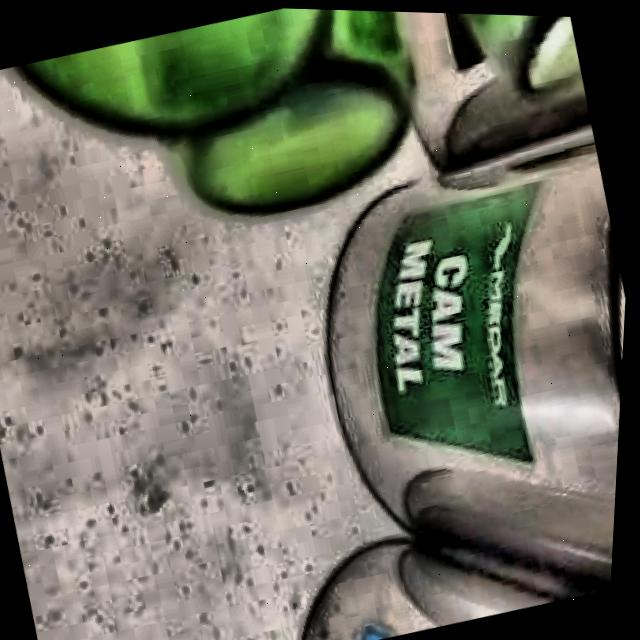glass: (23, 7, 413, 212)
